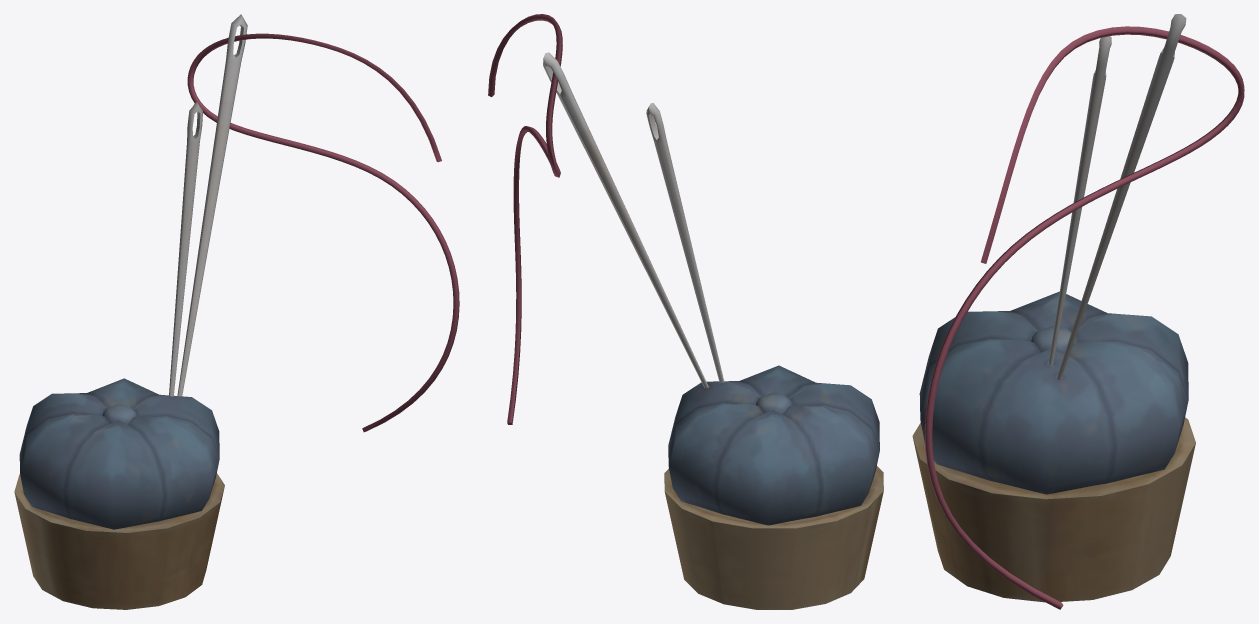
The model's file is SM_Farm_PinCussion_01.fbx.
3 renders of one model, left to right at view 1: azimuth 30°, elevation 25°; view 2: azimuth 150°, elevation 25°; view 3: azimuth 270°, elevation 25°, orthographic. The views are drawn at different scales.
Parts seen in each view (by area): view 1: SM_Farm_PinCussion_01_LOD0; view 2: SM_Farm_PinCussion_01_LOD0; view 3: SM_Farm_PinCussion_01_LOD0.
Part boxes in pixels (<box>): SM_Farm_PinCussion_01_LOD0: <box>14,14,459,609</box>; SM_Farm_PinCussion_01_LOD0: <box>488,14,883,609</box>; SM_Farm_PinCussion_01_LOD0: <box>912,14,1244,609</box>.
Bounding box in the file's own units: 45.41 × 53.6 × 24.77.
